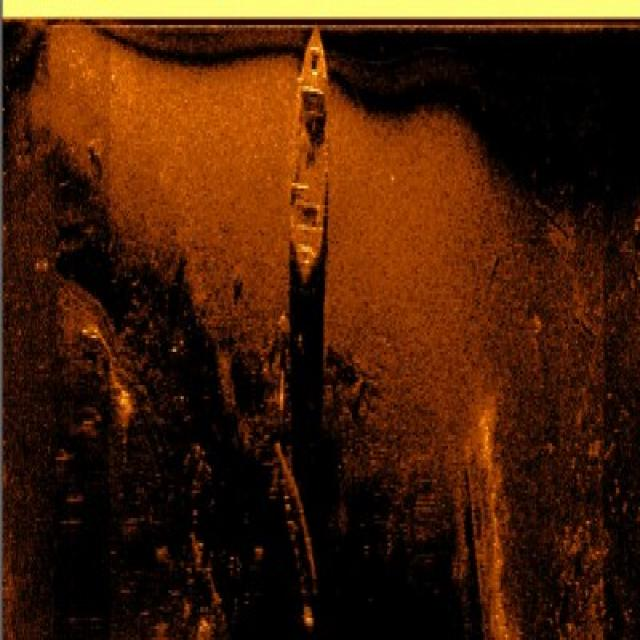ship: (286, 19, 333, 280)
